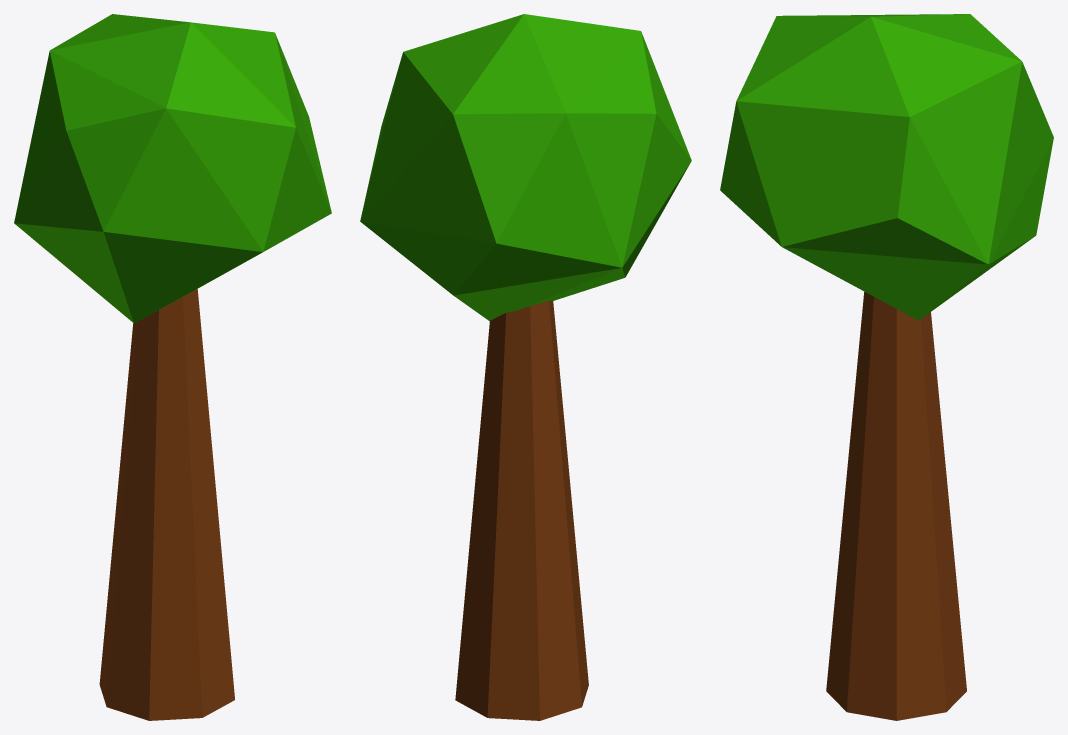
Rendered from treeSIMPLE.fbx.
3 views of the same model, side by side, from view 1: azimuth 30°, elevation 25°; view 2: azimuth 150°, elevation 25°; view 3: azimuth 270°, elevation 25° (orthographic).
Visible parts, largest first — view 1: Cylinder; view 2: Cylinder; view 3: Cylinder.
Boxes of the visible parts, x1,y1,x2,y2 form: Cylinder: (14, 14, 331, 720); Cylinder: (360, 14, 691, 720); Cylinder: (720, 14, 1053, 720).
Size of the model in its own units: 222 by 532 by 237.
